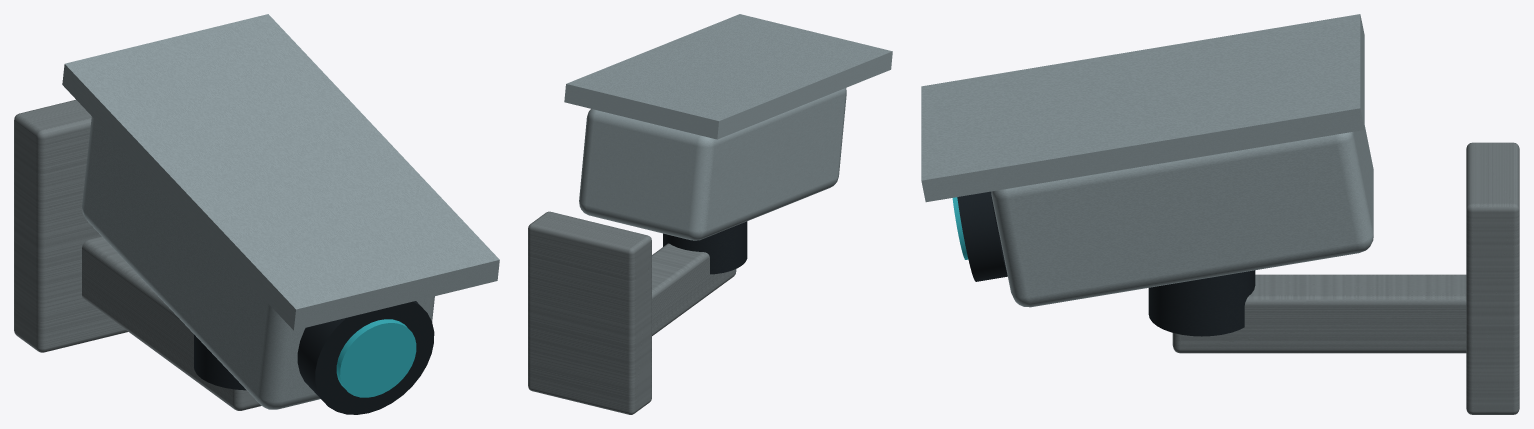
The model's file is wall-camera.ad81ec0f08aa.glb.
3 views of the same model, side by side, from view 1: azimuth 30°, elevation 25°; view 2: azimuth 150°, elevation 25°; view 3: azimuth 270°, elevation 25° (orthographic). The views are drawn at different scales.
Visible parts, largest first — view 1: rain_hood_0005, housing_0004, wall_mount_0001, bracket_0002, lens_body_0006, lens_glass_0007, swivel_0003; view 2: housing_0004, rain_hood_0005, wall_mount_0001, bracket_0002, swivel_0003; view 3: rain_hood_0005, housing_0004, bracket_0002, wall_mount_0001, swivel_0003, lens_body_0006.
Part boxes in pixels (x1,y1,x2,y2): rain_hood_0005: (62,14,499,330); housing_0004: (82,116,434,409); wall_mount_0001: (14,100,128,352); bracket_0002: (82,236,261,410); lens_body_0006: (297,301,434,414); lens_glass_0007: (336,319,416,397); swivel_0003: (194,334,246,390); housing_0004: (579,88,846,240); rain_hood_0005: (564,14,892,139); wall_mount_0001: (528,211,651,414); bracket_0002: (652,243,736,335); swivel_0003: (663,221,747,274); rain_hood_0005: (921,14,1364,202); housing_0004: (991,125,1373,307); bracket_0002: (1172,274,1466,353); wall_mount_0001: (1466,142,1519,414); swivel_0003: (1148,270,1255,336); lens_body_0006: (957,191,1007,281).
Size of the model in its own units: 0.23 by 0.3675 by 0.6167.
4 materials, 3 textured.
